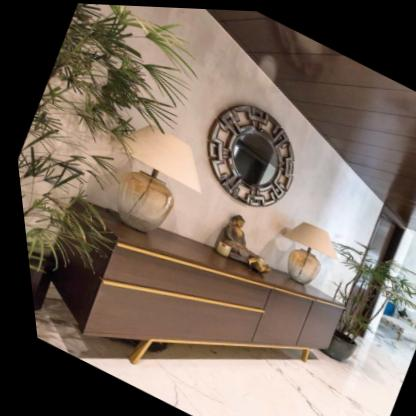Sideboard: (45, 198, 339, 365)
